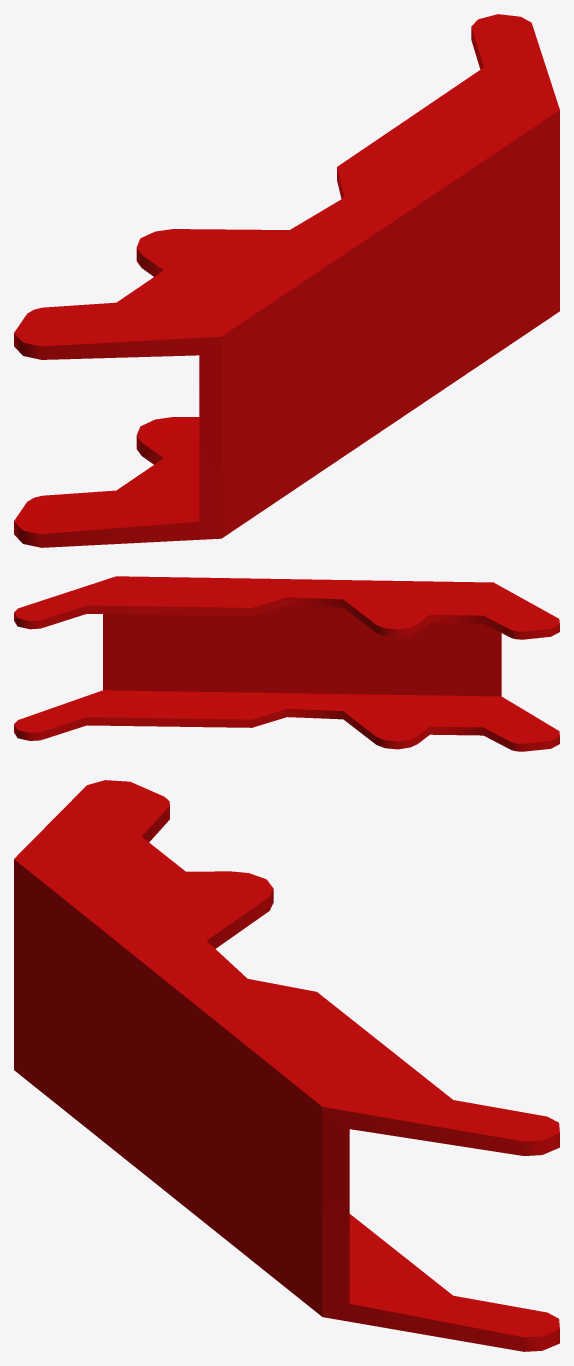
File: arm_2_collision.dae
3 renders of one model, top to bottom at view 1: azimuth 30°, elevation 25°; view 2: azimuth 150°, elevation 25°; view 3: azimuth 270°, elevation 25°, orthographic. The views are drawn at different scales.
Visible parts, largest first — view 1: arm_2_collision; view 2: arm_2_collision; view 3: arm_2_collision.
Part boxes in pixels (box(x1,y1,x2,y2)): arm_2_collision: box(14, 14, 559, 547); arm_2_collision: box(14, 576, 559, 751); arm_2_collision: box(14, 780, 559, 1351).
Size of the model in its own units: 0.1602 by 0.0436 by 0.1023.
